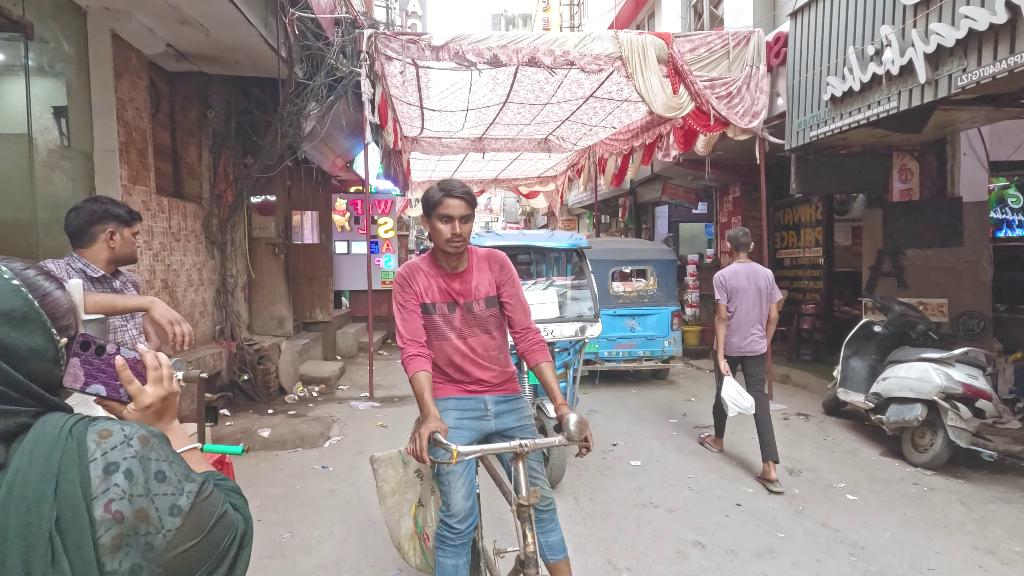garbage: (350, 392, 383, 413), (287, 381, 309, 403), (254, 425, 272, 438)
